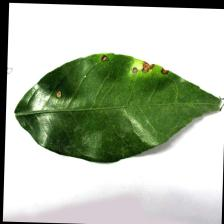canker: (69, 42, 185, 92)
